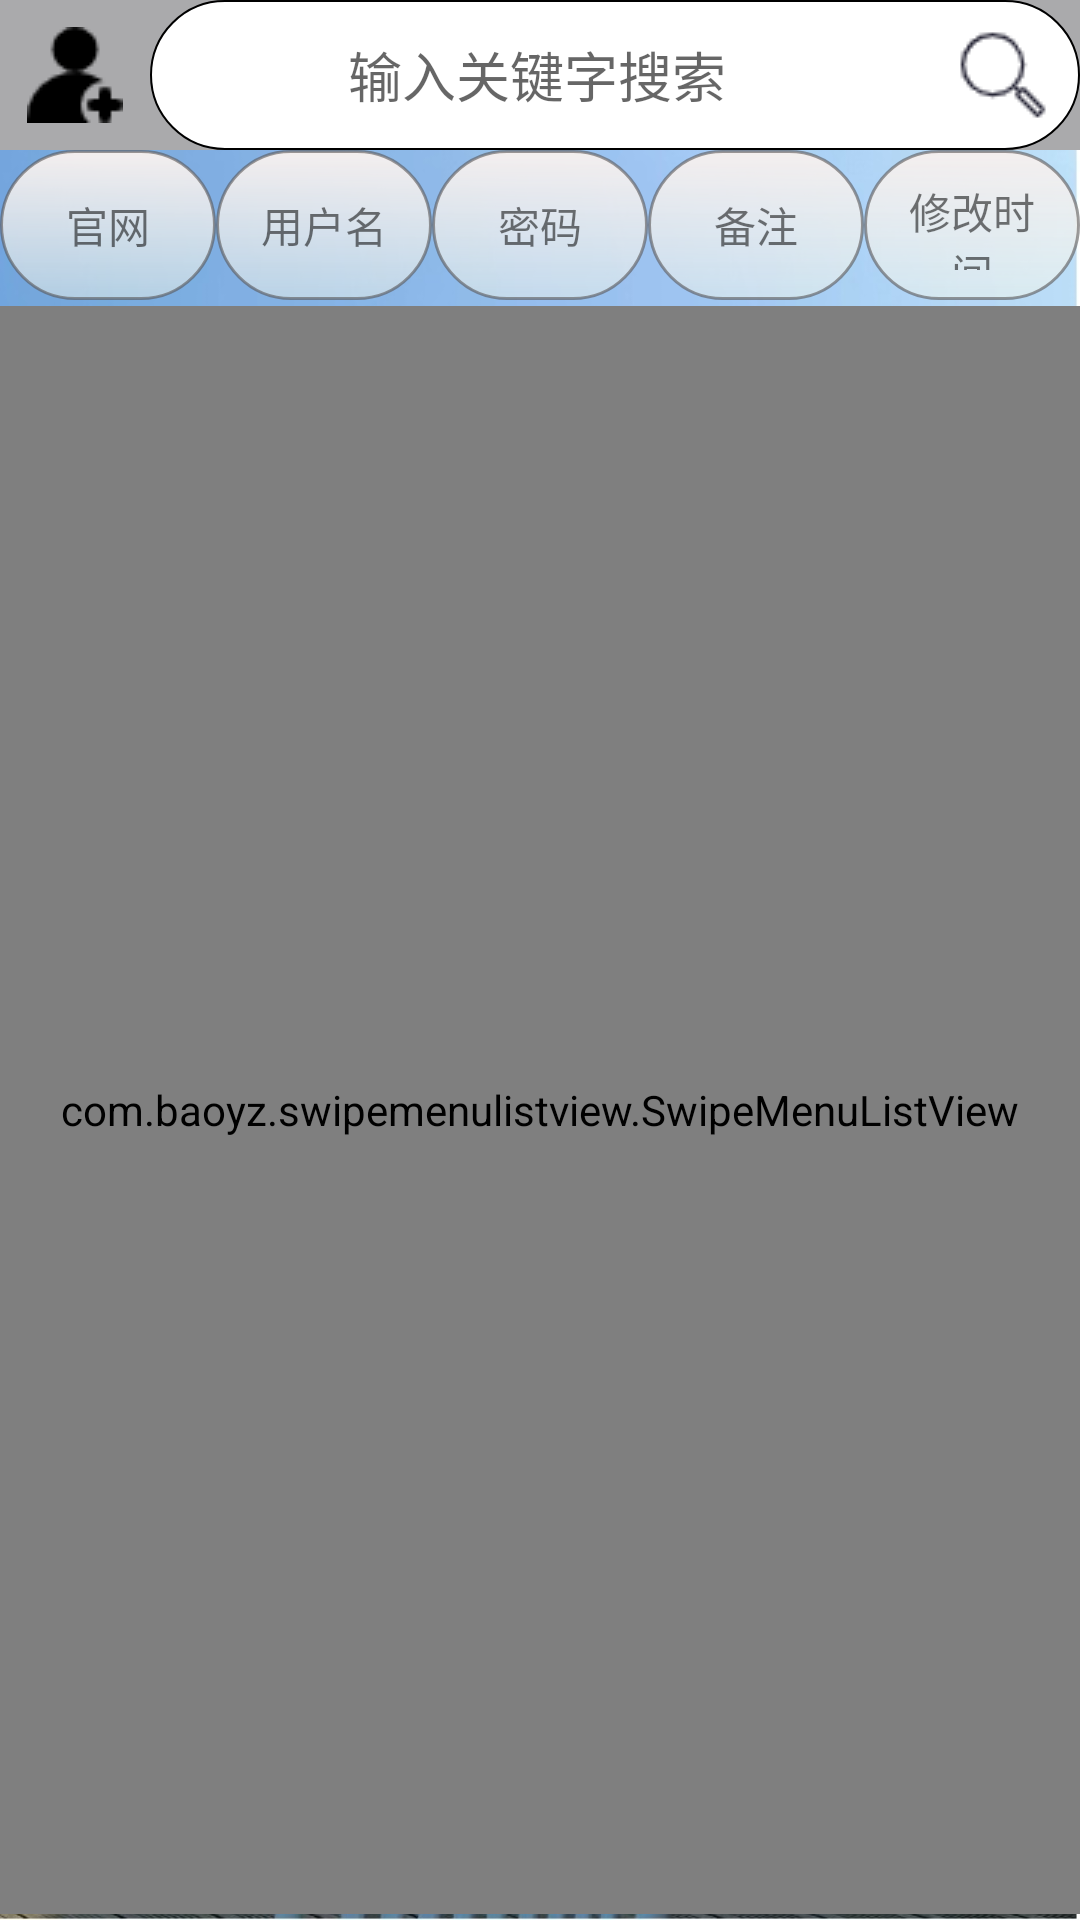

Named icons in this screenshot (1080px×1920px) and their bounding boxes, (x1, y1, x2, y2):
add new user: (27, 27, 123, 123)
